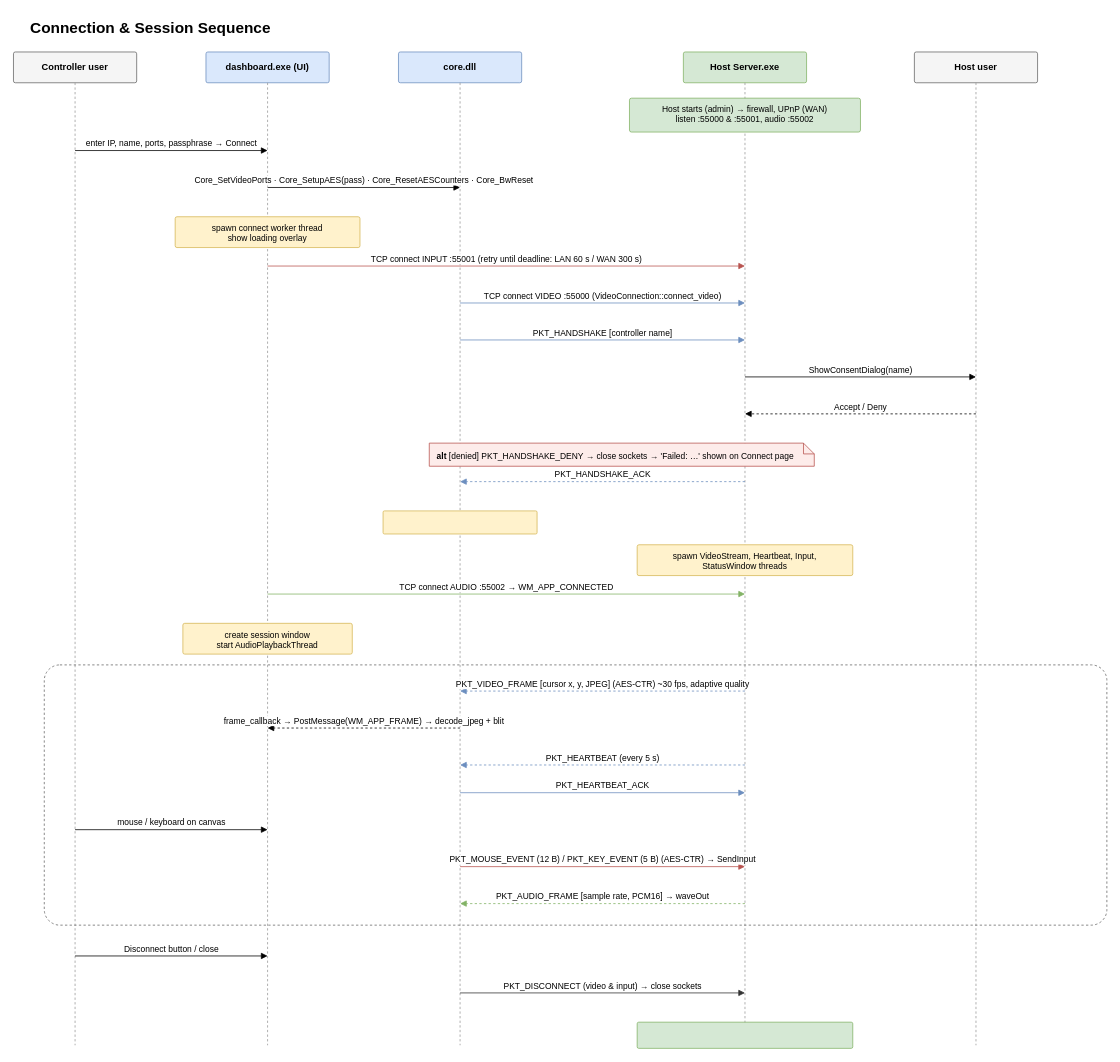
This 1120x1062 diagram has some shape labels left out. The shapes that lost their labels are listed below. From the top down, each one's centre as x and y in pixels, then its label:
At (459,522): "start recv_loop() thread".
At (575,794): "loop [session active]".
At (744,1034): "join session threads → back to accept()".
